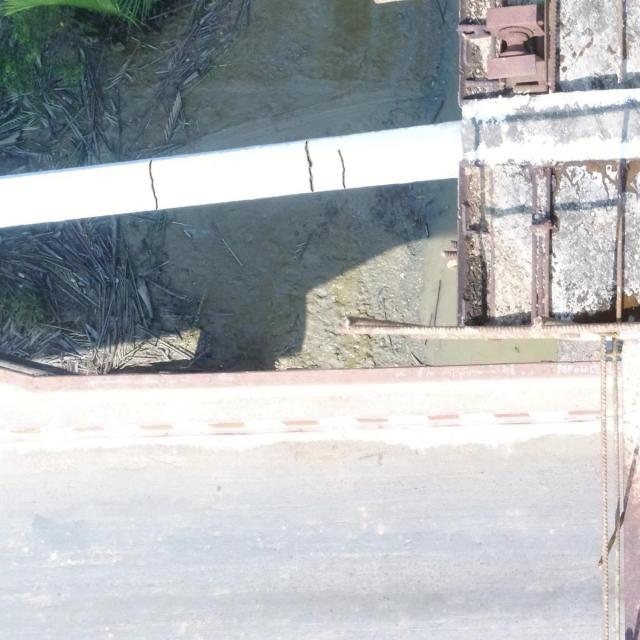crack: (303, 140, 315, 192), (148, 159, 158, 210), (337, 149, 347, 189)
